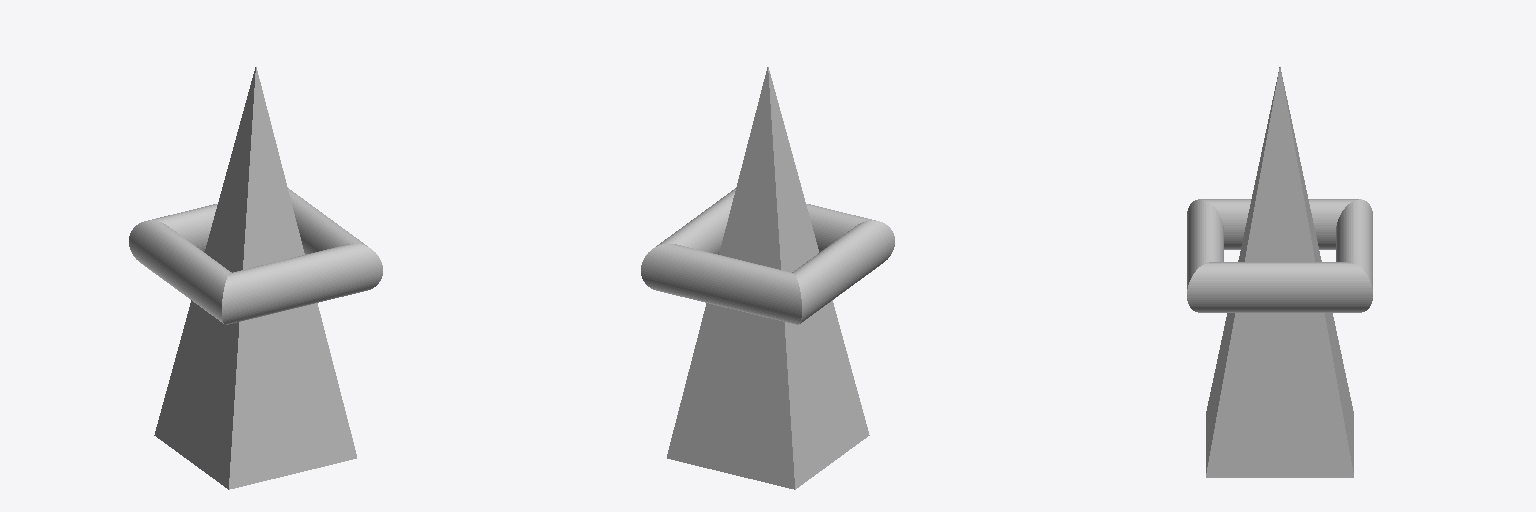
Rendered from Deco1.obj.
3 renders of one model, left to right at view 1: azimuth 30°, elevation 25°; view 2: azimuth 150°, elevation 25°; view 3: azimuth 270°, elevation 25°, orthographic.
Visible parts, largest first — view 1: Cone; view 2: Cone; view 3: Cone.
Boxes of the visible parts, <box> form: Cone: <box>129,67,382,489</box>; Cone: <box>641,67,894,489</box>; Cone: <box>1187,67,1372,477</box>.
Size of the model in its own units: 1.77 by 4 by 1.77.